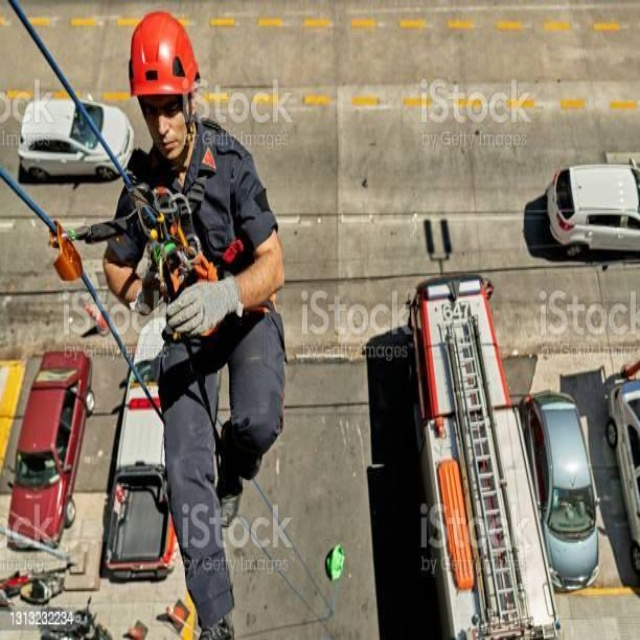Arnes_seguridad: (125, 132, 284, 368)
